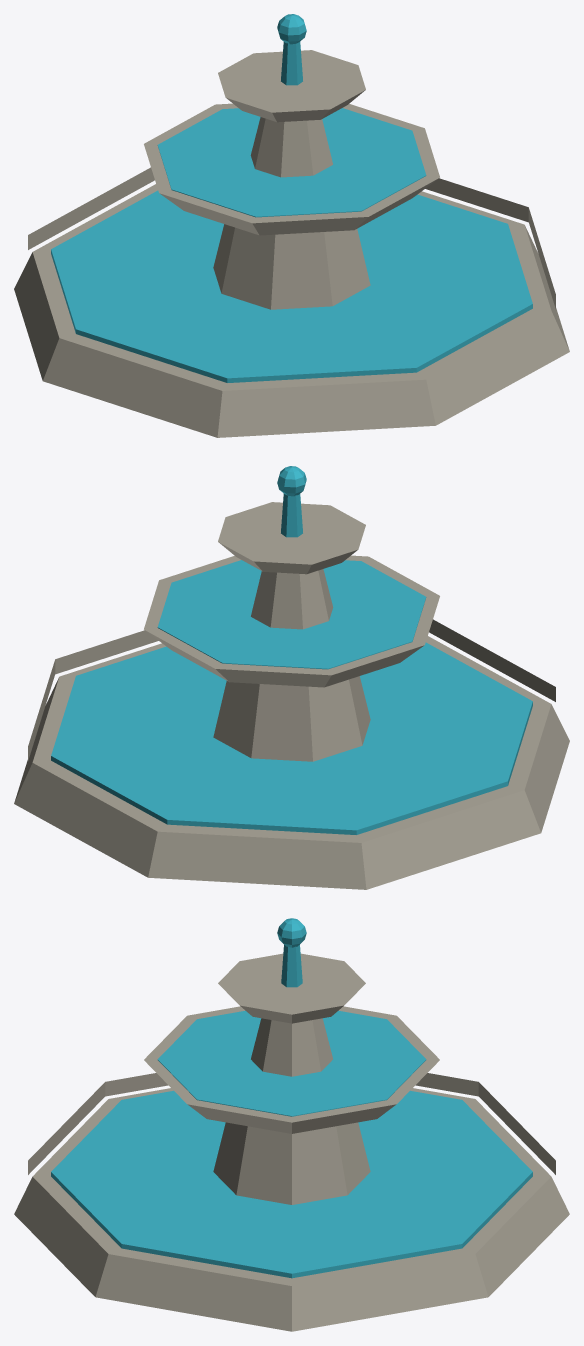
Rendered from fountain.glb.
The picture shows the model from 3 angles, top to bottom: view 1: azimuth 30°, elevation 25°; view 2: azimuth 150°, elevation 25°; view 3: azimuth 270°, elevation 25°; orthographic projection. The views are drawn at different scales.
Visible parts, largest first — view 1: fountain; view 2: fountain; view 3: fountain.
Part boxes in pixels (<box>): fountain: <box>14,14,569,437</box>; fountain: <box>14,466,569,889</box>; fountain: <box>14,918,569,1331</box>.
Size of the model in its own units: 12 by 7.02 by 12.
